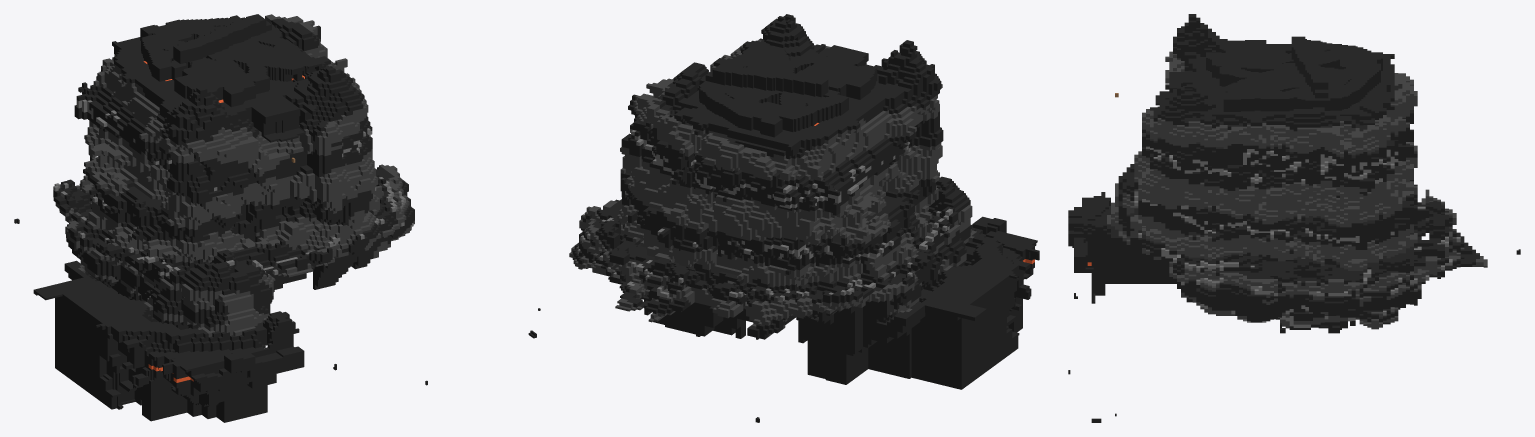
File: Mainpart_lava_vox-0.obj
3 renders of one model, left to right at view 1: azimuth 30°, elevation 25°; view 2: azimuth 150°, elevation 25°; view 3: azimuth 270°, elevation 25°, orthographic. The views are drawn at different scales.
Bounding box in the file's own units: 24.1 × 16 × 23.3.
Materials: 1 (1 with a texture image).
